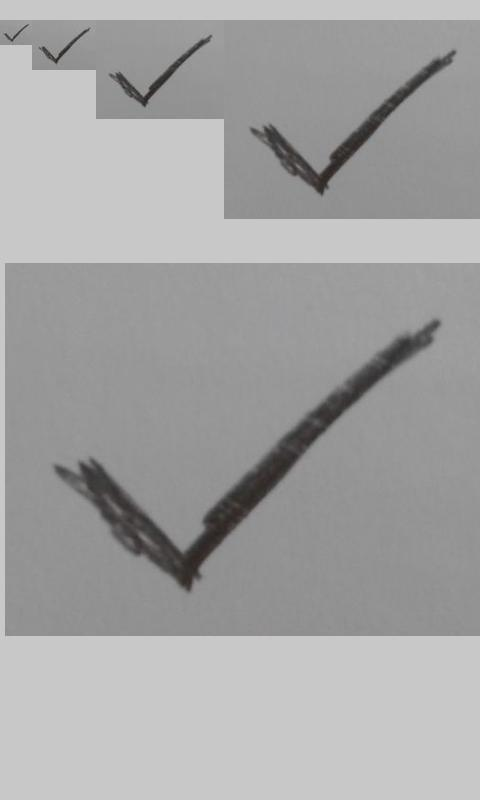check_box: (61, 319, 436, 590), (257, 50, 453, 195), (112, 35, 212, 107), (41, 28, 90, 64), (4, 24, 29, 42)
